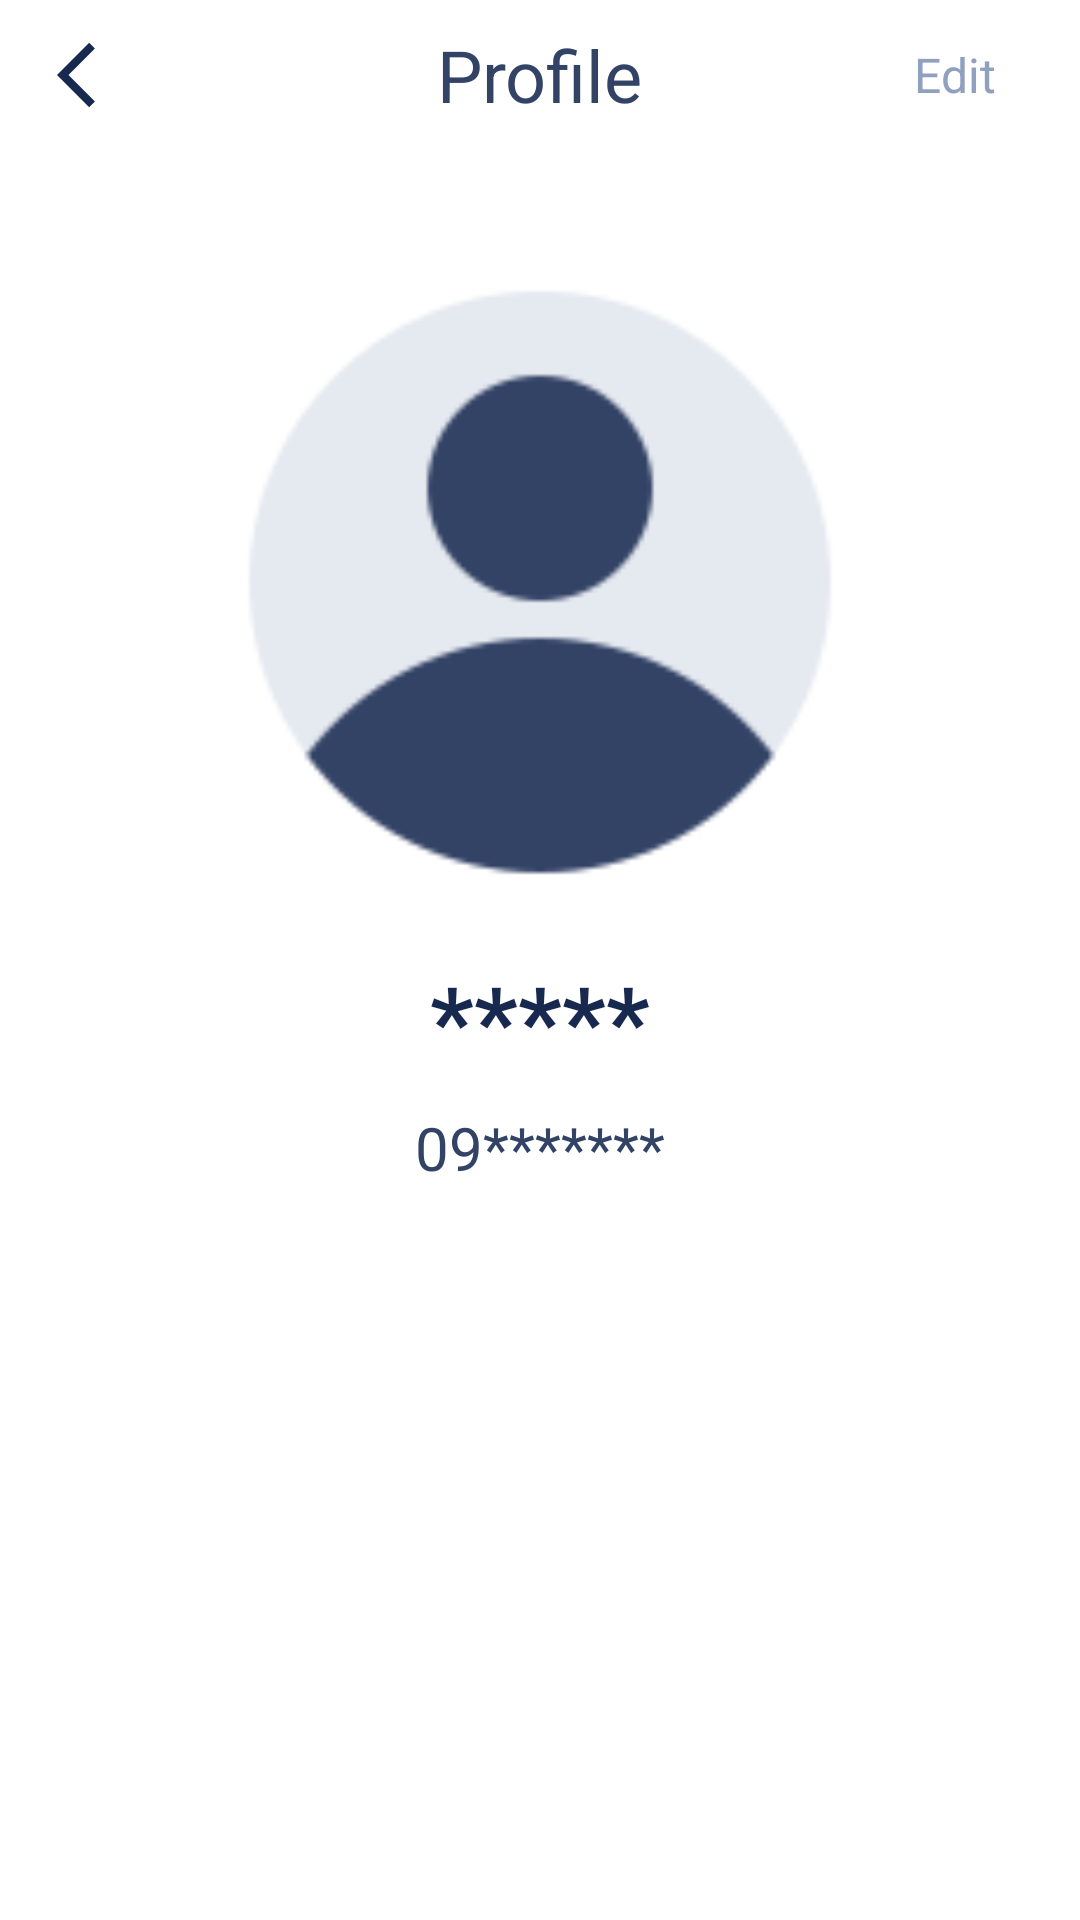

Named icons in this screenshot (1080 × 1920) and their centers, point (x, y):
arrow back: point (76, 75)
